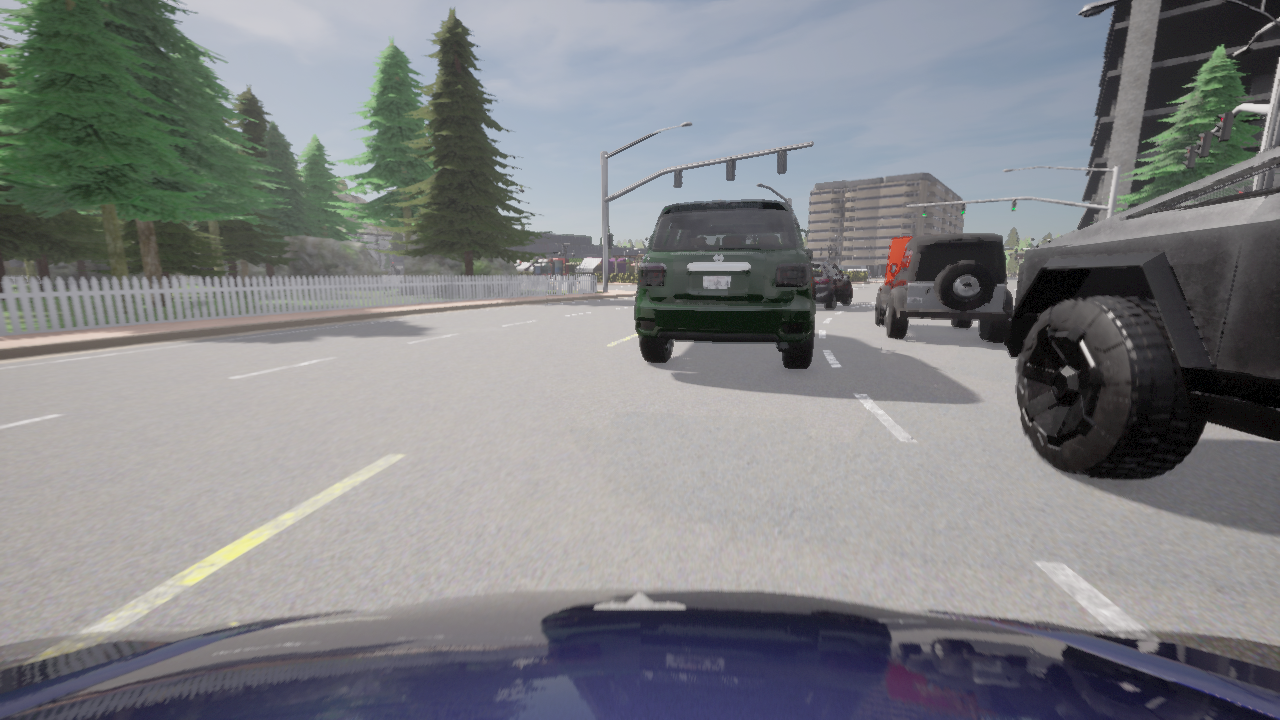cyclist: (0, 588, 1279, 719), (1005, 146, 1279, 478), (635, 201, 814, 368), (876, 234, 1012, 341), (810, 260, 851, 309), (885, 237, 912, 284), (848, 269, 871, 276)
